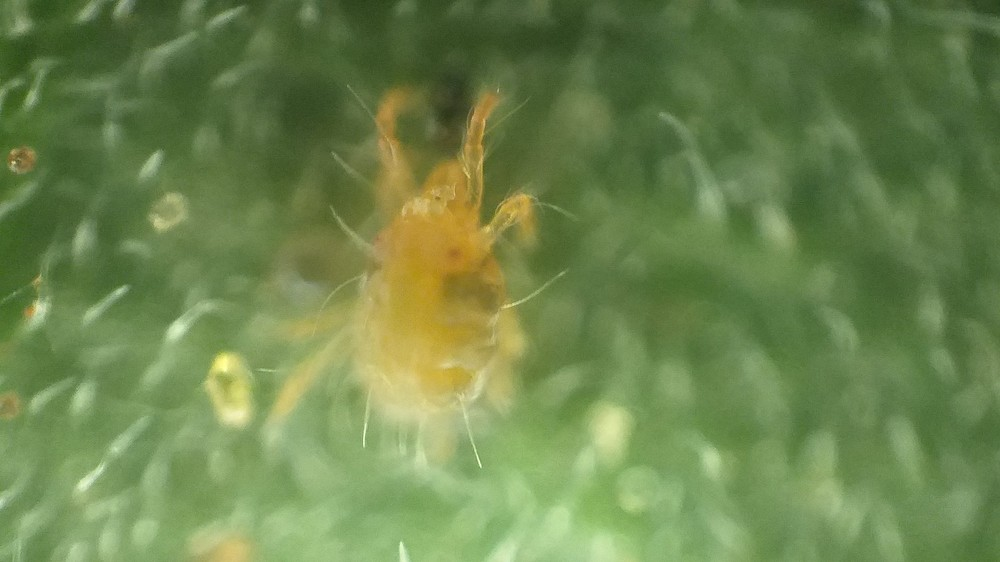Aracnido Rojo: (250, 81, 576, 501)
